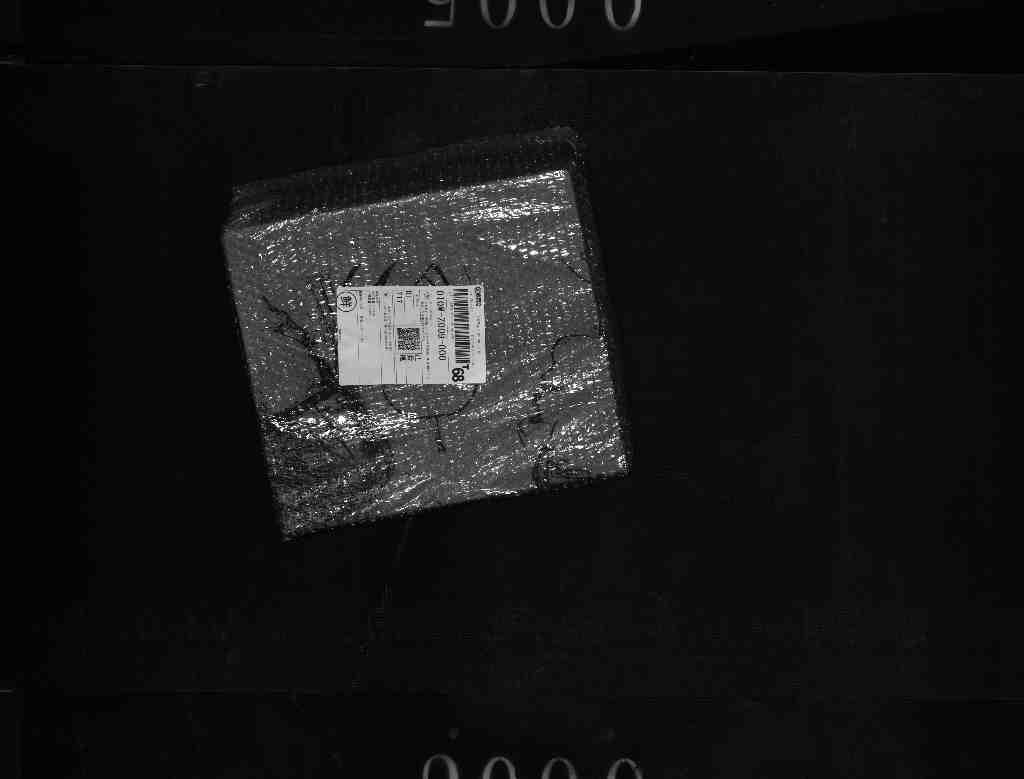box: (217, 127, 644, 552)
